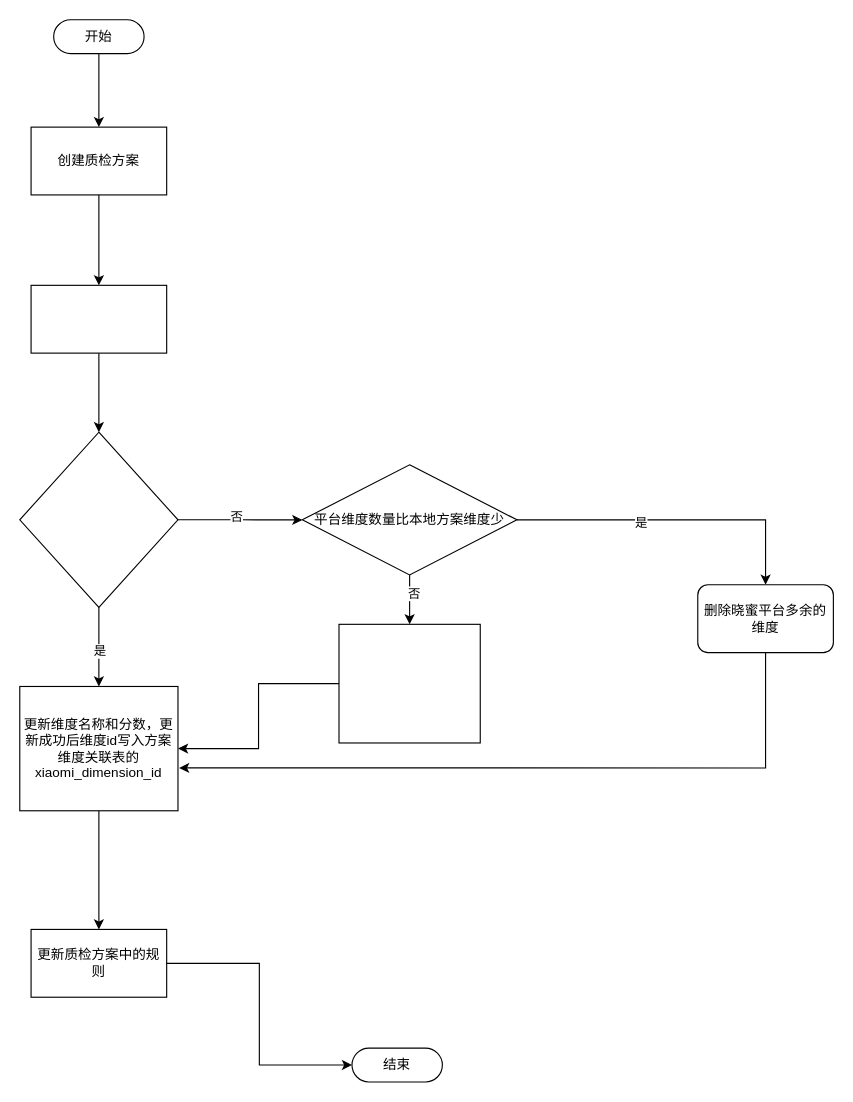
The diagram is 853 pixels wide and 1102 high, and some of its shapes have lost their labels. Here are the shapes that lost their labels. From the top down, the centre of each, then its label:
At point (98, 318): "得到方案里面的维度id:0-4".
At point (98, 519): "维度数量是否与本地方案维度数量一致".
At point (409, 683): "新增晓蜜平台维度，新增成功后维度id写入方案维度关联表的xiaomi_dimension_id".
